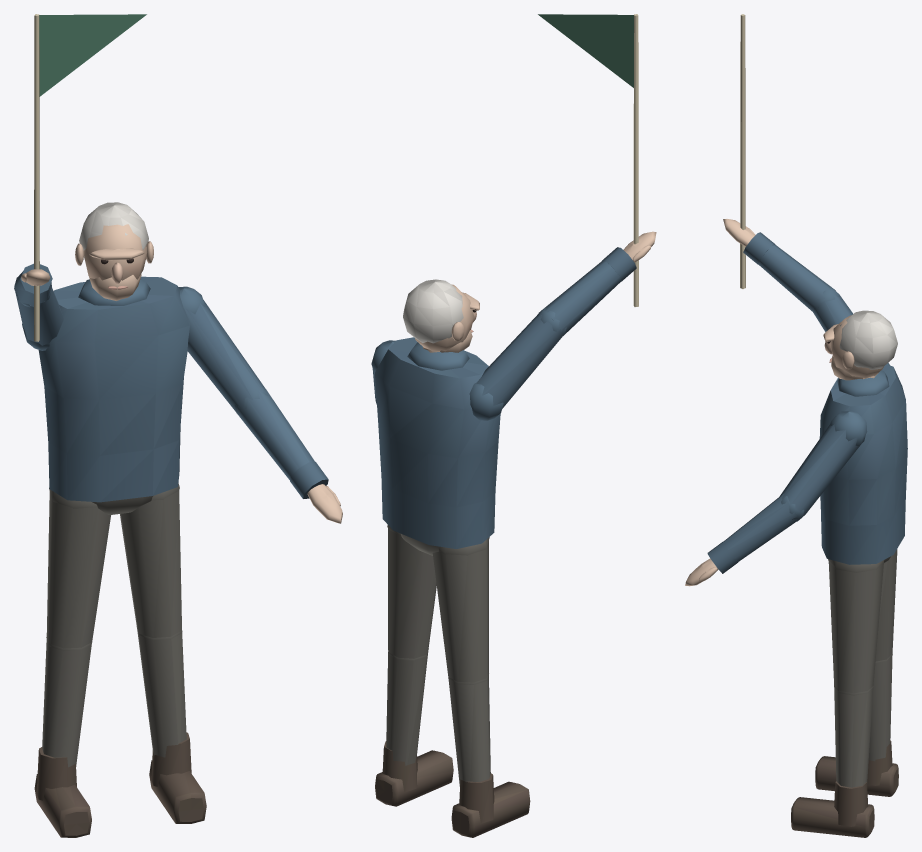
Rendered from crowd_child_a_c.glb.
3 renders of one model, left to right at view 1: azimuth 30°, elevation 25°; view 2: azimuth 150°, elevation 25°; view 3: azimuth 270°, elevation 25°, orthographic. The views are drawn at different scales.
Visible parts, largest first — view 1: body; view 2: body; view 3: body.
Boxes of the visible parts, box(x1,y1,x2,y2) form: body: box(14, 14, 342, 837); body: box(371, 14, 656, 837); body: box(685, 14, 907, 837).
Size of the model in its own units: 0.5844 by 1.67 by 0.4584.
